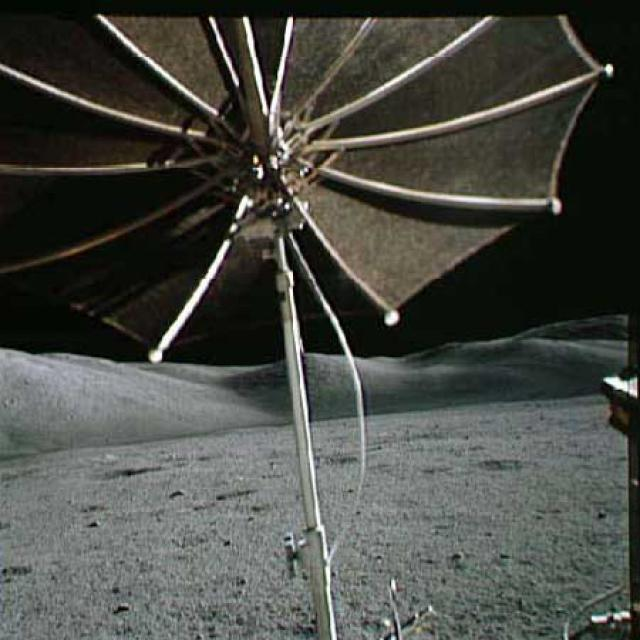artifact: (0, 0, 613, 381), (260, 376, 450, 640), (560, 370, 638, 638)
crater: (83, 462, 172, 480), (482, 453, 540, 477)
